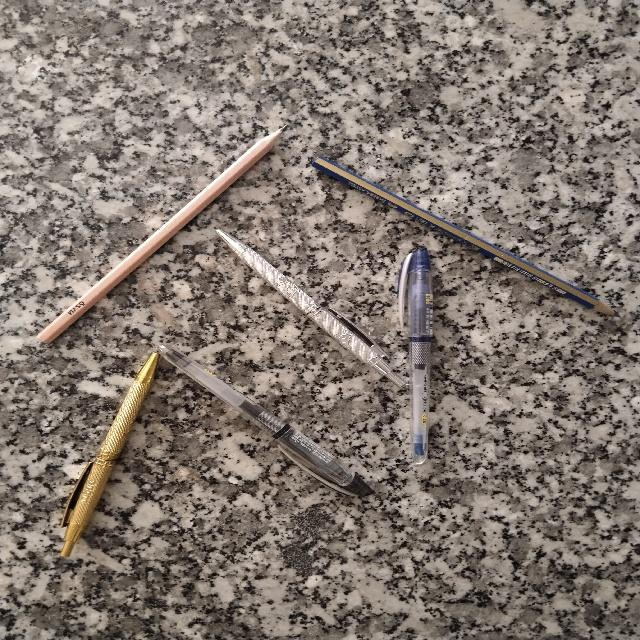pen: (159, 345, 372, 496), (398, 247, 432, 464)
pencil: (37, 127, 283, 342), (312, 157, 614, 314)
signature pen: (217, 229, 405, 386), (61, 352, 158, 556)
